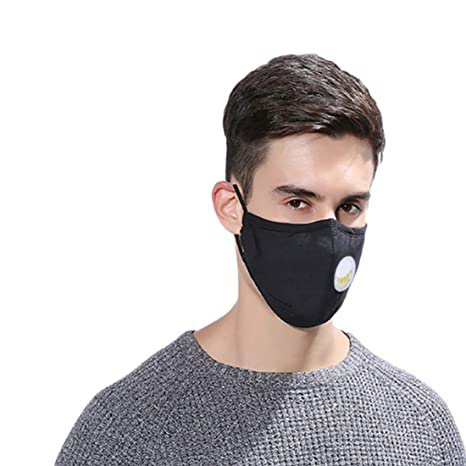mask: (206, 54, 397, 337)
